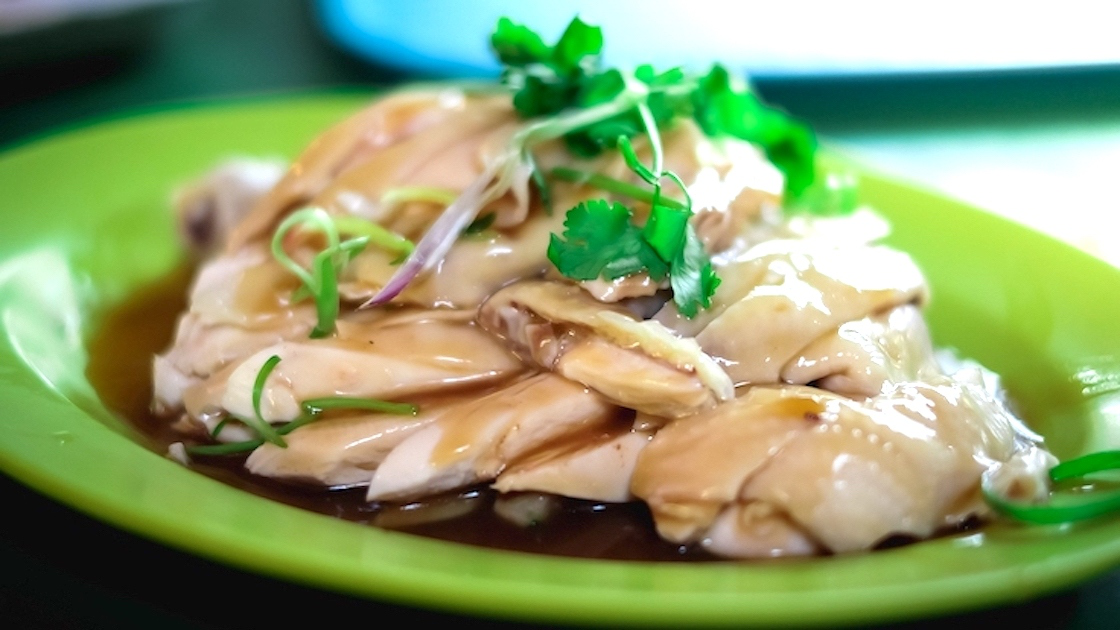Steamed Chicken Rice: (199, 68, 1047, 562)
